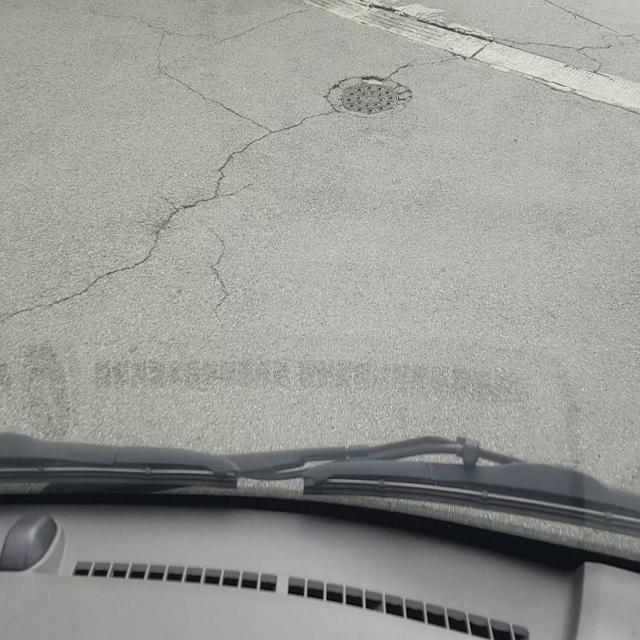Pothole: (323, 70, 414, 120)
